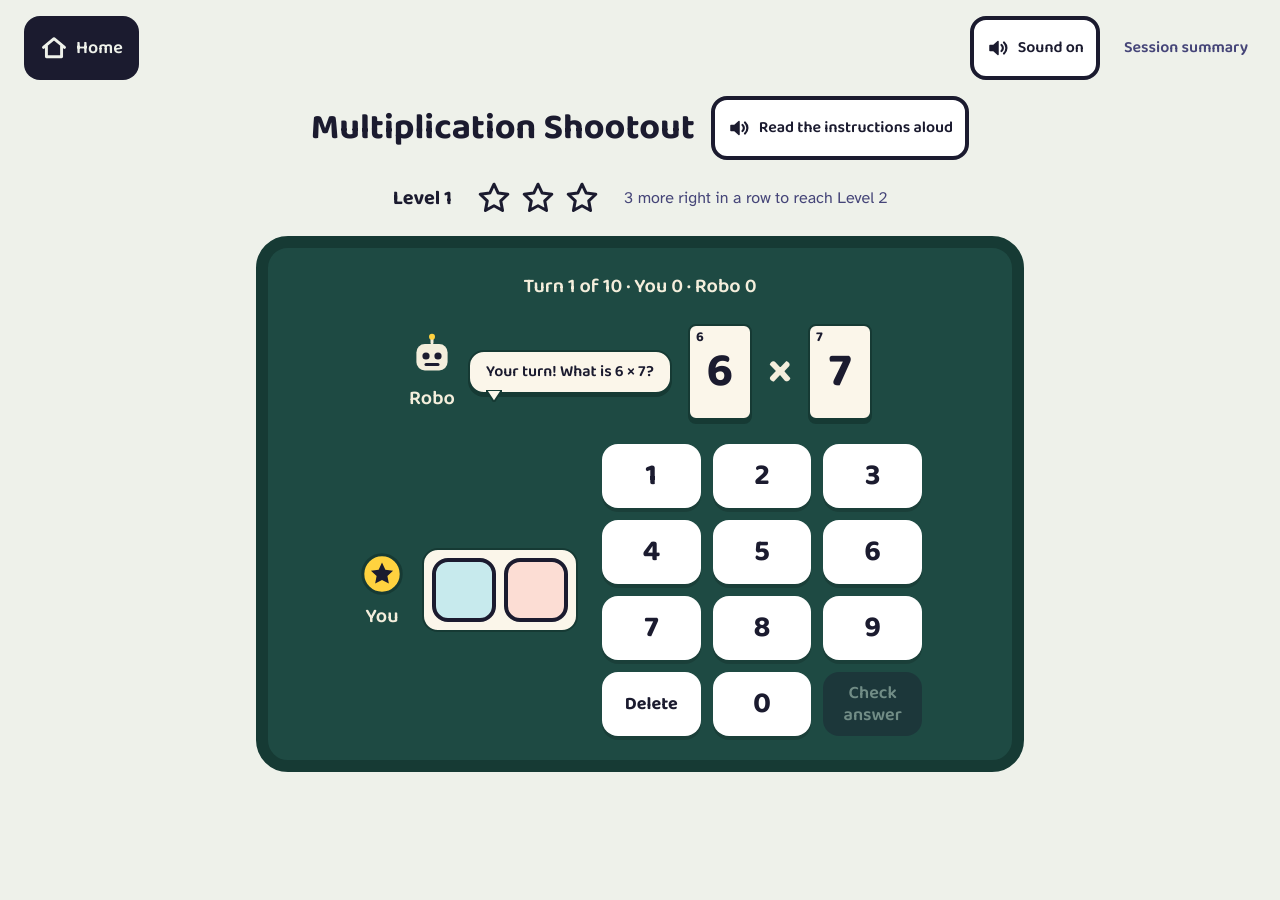
Test: a correct answer is checked and shows Correct
The width and height of the screenshot is (1280, 900).
Click the button "4" at (651,552), box [602,520,701,584]
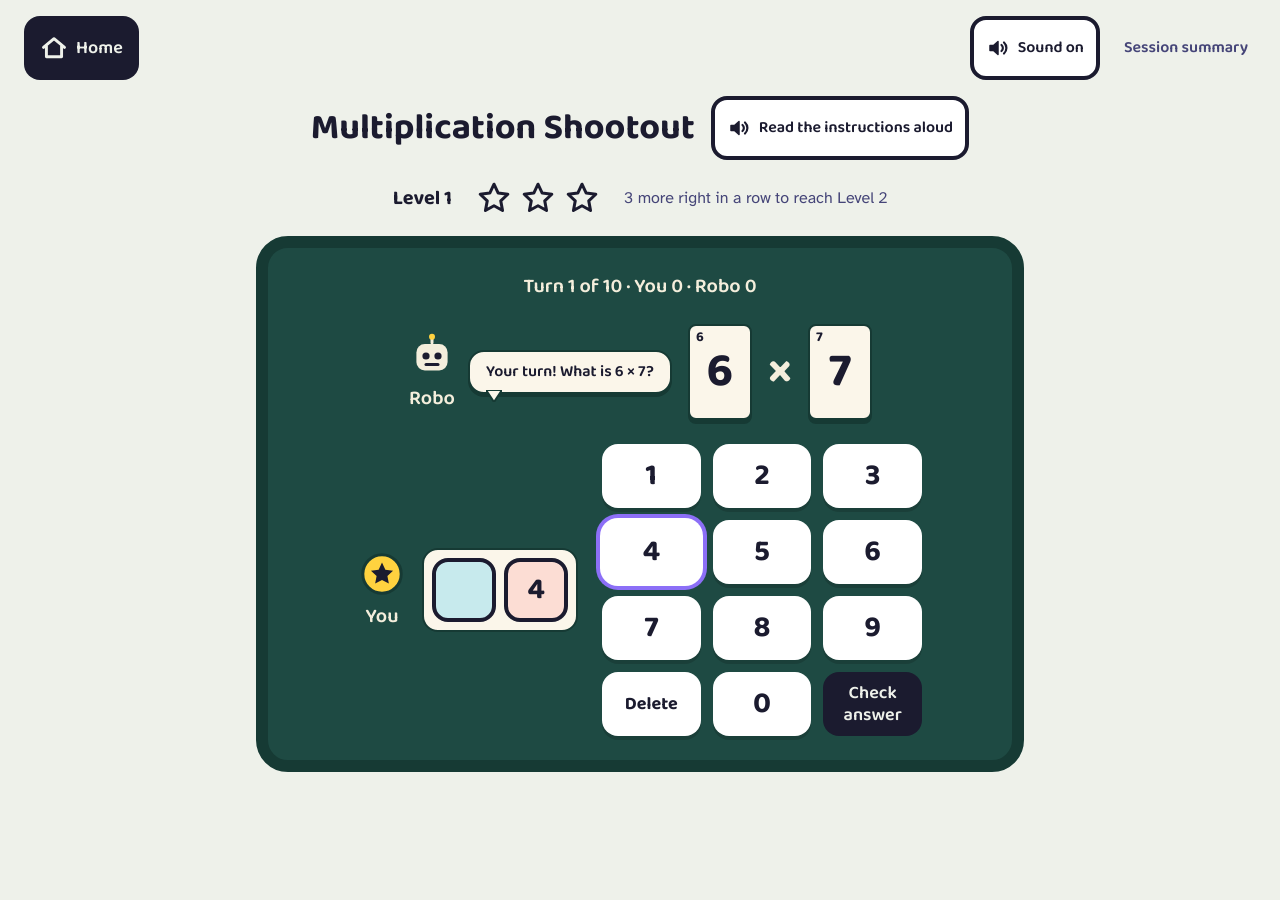
Click the button "2" at (762,476), box [713,444,811,508]
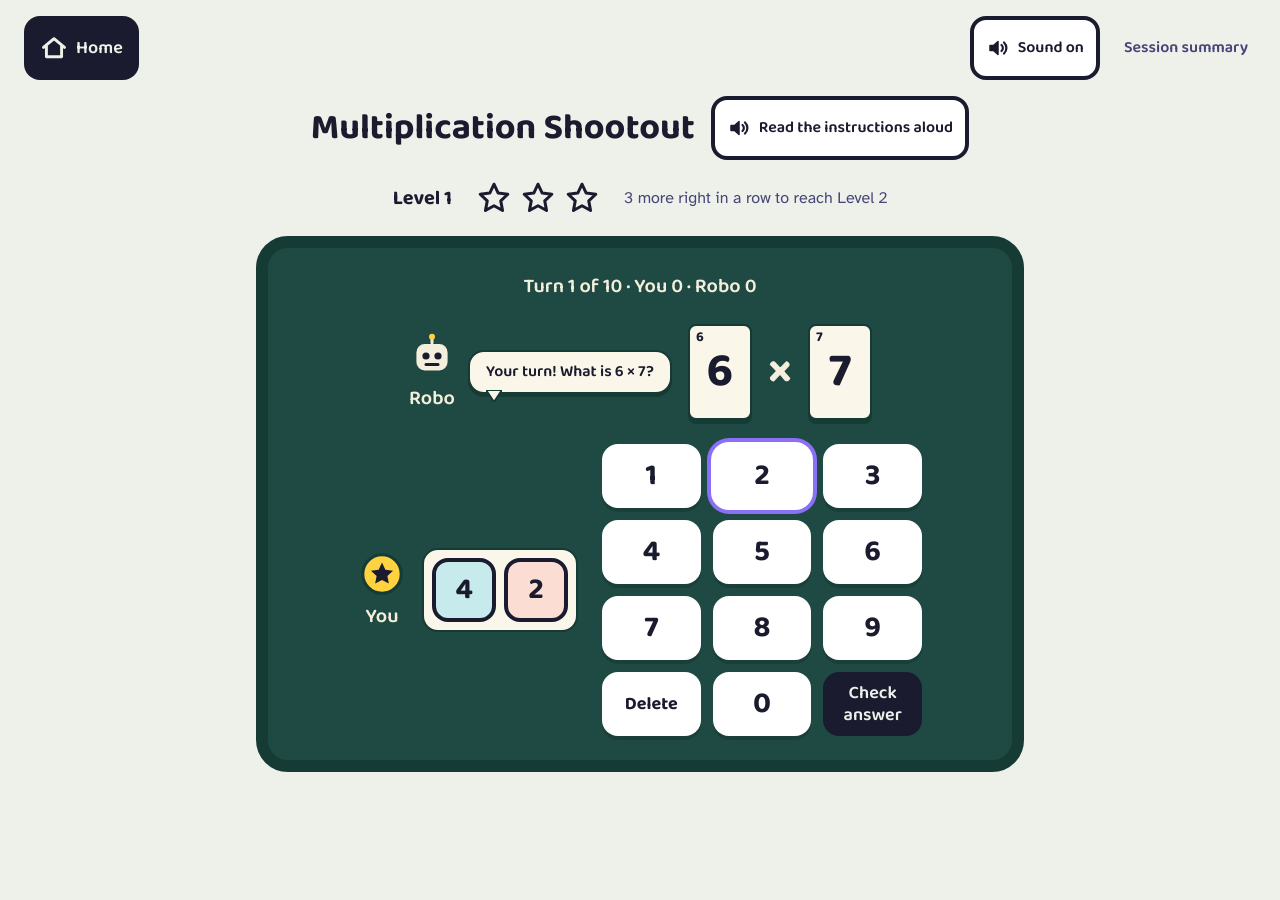
Click the button "Check answer" at (873,704), box [823,672,922,736]
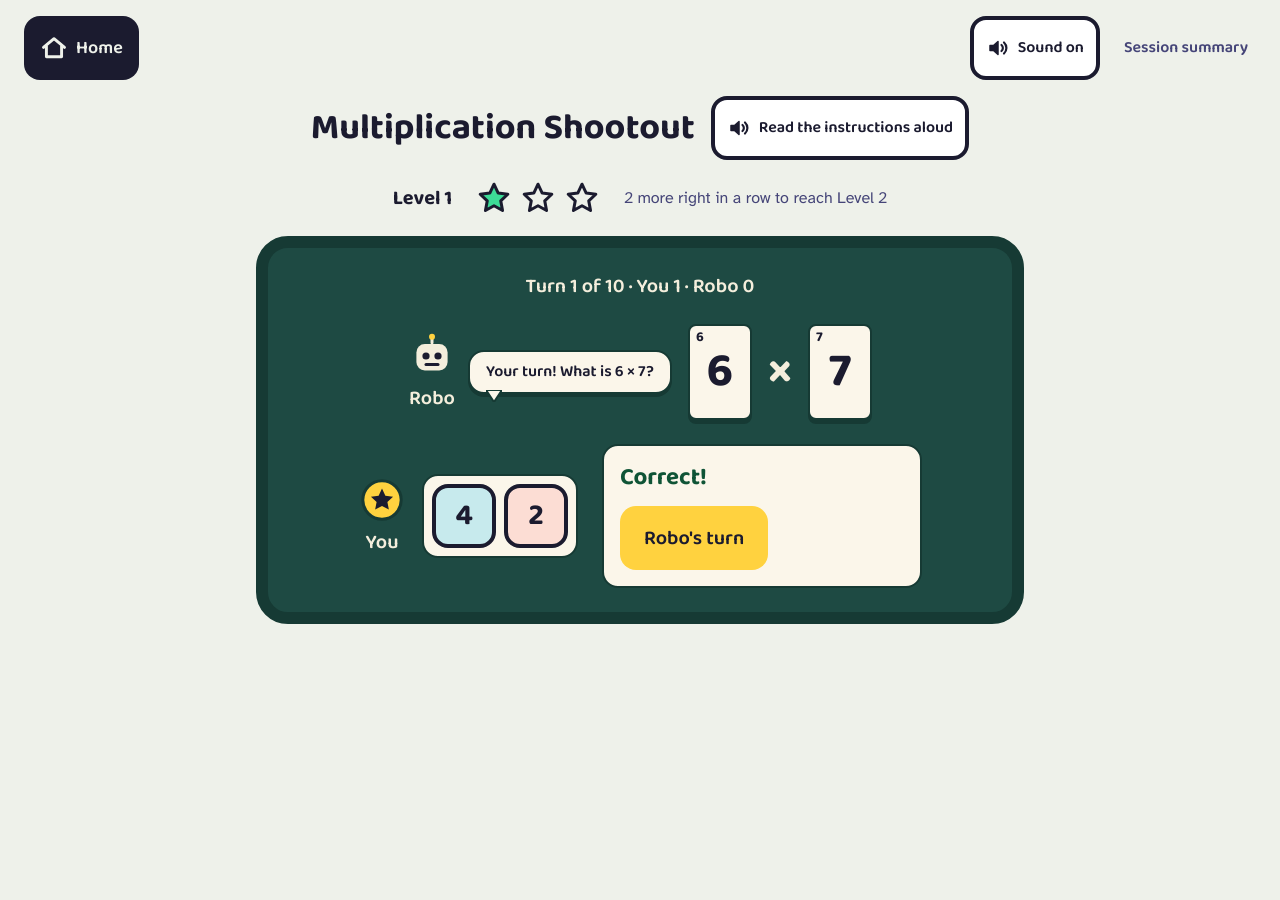
Expected: the text "Correct!" is shown, [620,462,707,494]
